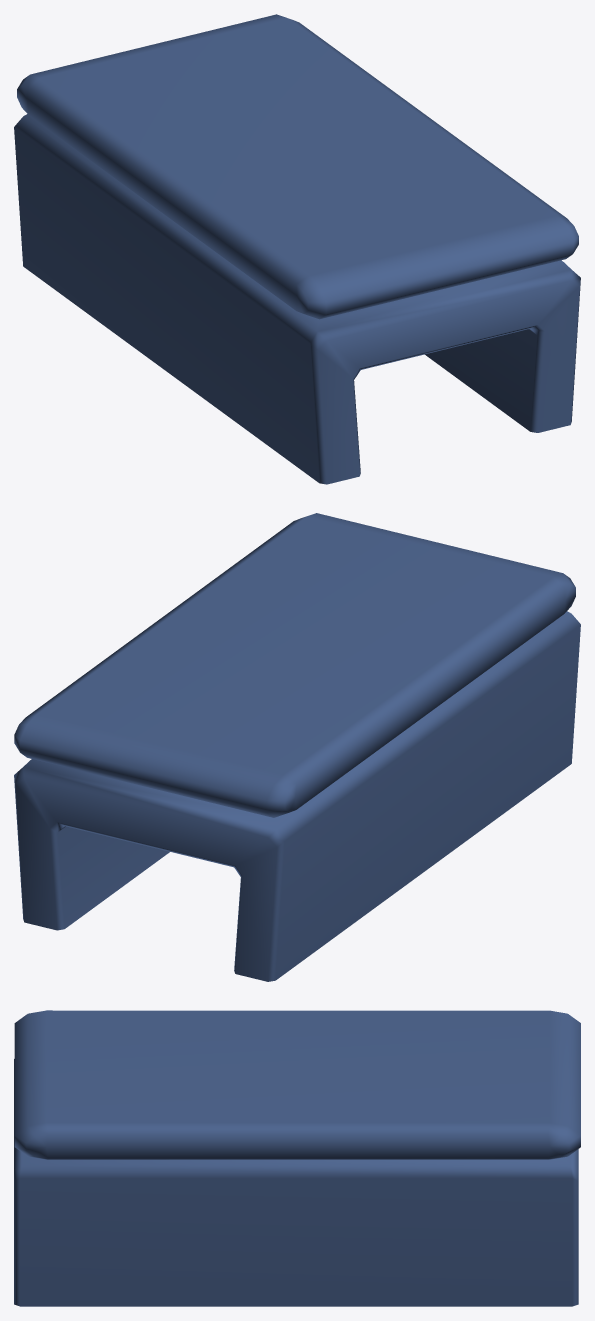
File: SM_HQconveyerBelt.fbx
3 views of the same model, one above another, from view 1: azimuth 30°, elevation 25°; view 2: azimuth 150°, elevation 25°; view 3: azimuth 270°, elevation 25° (orthographic). The views are drawn at different scales.
Visible parts, largest first — view 1: SM_conveyerbelt; view 2: SM_conveyerbelt; view 3: SM_conveyerbelt.
Boxes of the visible parts, x1,y1,x2,y2 form: SM_conveyerbelt: (14,14,580,484); SM_conveyerbelt: (14,513,580,981); SM_conveyerbelt: (14,1010,580,1306).
Size of the model in its own units: 283 by 195 by 546.
